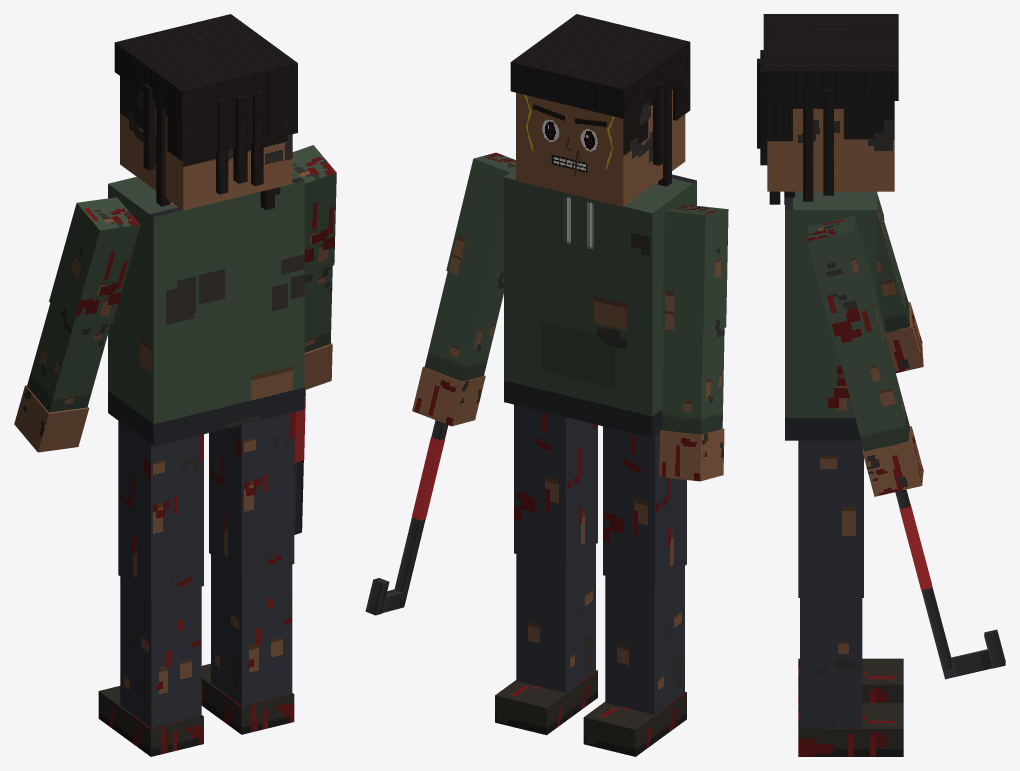
File: mon_feral_human_crowbar.glb
3 views of the same model, side by side, from view 1: azimuth 30°, elevation 25°; view 2: azimuth 150°, elevation 25°; view 3: azimuth 270°, elevation 25° (orthographic). The views are drawn at different scales.
Parts seen in each view (by area): view 1: block_torso, block_thigh.L, block_hair-cap, block_thigh.R, block_shin.L, block_shin.R, block_upper_arm.L, block_head, block_hair-dread (×5), block_forearm.L, block_hair-back, block_upper_arm.R (+7 smaller); view 2: block_torso, block_head, block_hair-cap, block_thigh.R, block_thigh.L, block_shin.L, block_shin.R, block_upper_arm.L, block_forearm.L, block_forearm.R, block_upper_arm.R, block_foot.L (+8 smaller); view 3: block_torso, block_hair-cap, block_thigh.R, block_head, block_shin.R, block_upper_arm.R, block_forearm.R, block_foot.R, block_hair-dread (×4), block_hand.R, block_forearm.L, block_foot.L (+6 smaller).
Boxes of the visible parts, left/top/right/bottom form: block_torso: left=108, top=172, right=304, bottom=446; block_thigh.L: left=118, top=421, right=203, bottom=598; block_hair-cap: left=114, top=14, right=297, bottom=120; block_thigh.R: left=209, top=412, right=294, bottom=576; block_shin.L: left=120, top=577, right=201, bottom=728; block_shin.R: left=211, top=554, right=292, bottom=706; block_upper_arm.L: left=49, top=197, right=140, bottom=328; block_head: left=120, top=76, right=292, bottom=210; block_hair-dread (×5): left=143, top=84, right=263, bottom=206; block_forearm.L: left=27, top=303, right=110, bottom=412; block_hair-back: left=167, top=91, right=297, bottom=160; block_upper_arm.R: left=292, top=145, right=336, bottom=275; block_torso: left=504, top=169, right=696, bottom=437; block_head: left=516, top=84, right=685, bottom=206; block_hair-cap: left=510, top=14, right=690, bottom=118; block_thigh.R: left=514, top=404, right=597, bottom=565; block_thigh.L: left=603, top=426, right=686, bottom=587; block_shin.L: left=605, top=566, right=684, bottom=714; block_shin.R: left=516, top=544, right=595, bottom=692; block_upper_arm.L: left=662, top=205, right=728, bottom=333; block_forearm.L: left=662, top=328, right=724, bottom=434; block_forearm.R: left=424, top=271, right=503, bottom=381; block_upper_arm.R: left=446, top=152, right=515, bottom=285; block_foot.L: left=583, top=692, right=686, bottom=756; block_torso: left=785, top=191, right=877, bottom=440; block_hair-cap: left=763, top=14, right=898, bottom=100; block_thigh.R: left=798, top=440, right=863, bottom=597; block_head: left=767, top=101, right=894, bottom=191; block_shin.R: left=800, top=598, right=862, bottom=728; block_upper_arm.R: left=807, top=216, right=885, bottom=354; block_forearm.R: left=838, top=333, right=909, bottom=451; block_foot.R: left=798, top=703, right=903, bottom=756; block_hair-dread (×4): left=760, top=67, right=833, bottom=201; block_hand.R: left=862, top=426, right=923, bottom=496; block_forearm.L: left=877, top=222, right=909, bottom=332; block_foot.L: left=798, top=658, right=903, bottom=703.
Bounding box in the file's own units: 0.7943 × 1.71 × 0.5666.
Materials: 1 (1 with a texture image).
